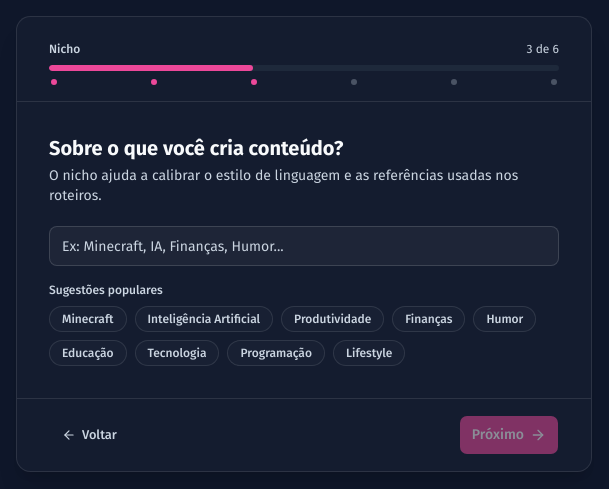
Onboarding — Wizard › 5. Preenche nicho e botão 'Próximo' fica habilitado
The image size is (609, 489).
Type "Minecraft" into the field with test id "niche-input" at {"x": 304, "y": 246}, box [49,226,559,266]
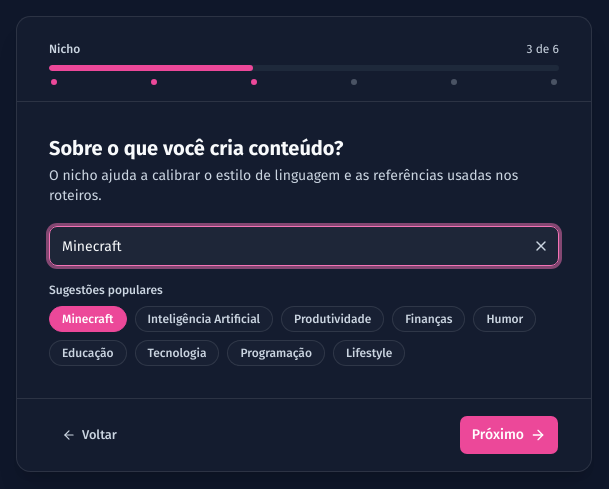
Check: the button "Minecraft" is shown, box [49,306,127,332]
Check: the button with test id "onboarding-next-btn" is enabled, box [459,415,559,455]
